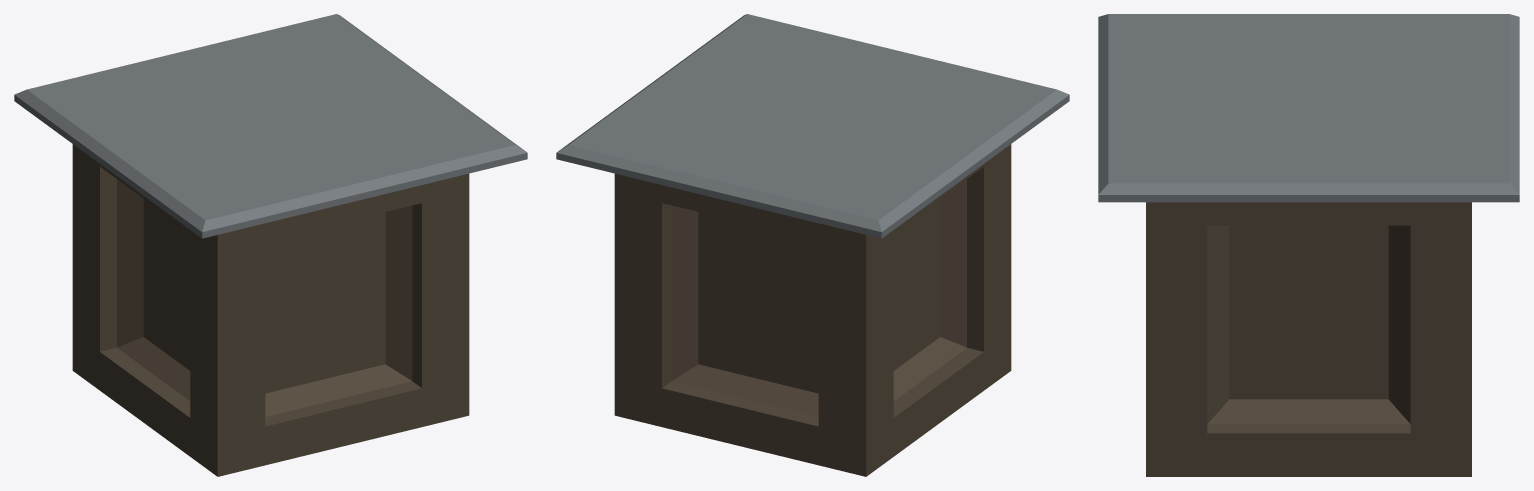
The model's file is WM_Table1.fbx.
3 views of the same model, side by side, from view 1: azimuth 30°, elevation 25°; view 2: azimuth 150°, elevation 25°; view 3: azimuth 270°, elevation 25° (orthographic). The views are drawn at different scales.
Visible parts, largest first — view 1: pCube25; view 2: pCube25; view 3: pCube25.
Boxes of the visible parts, left/top/right/bottom form: pCube25: left=14, top=14, right=527, bottom=476; pCube25: left=556, top=14, right=1069, bottom=476; pCube25: left=1098, top=14, right=1519, bottom=476.
Size of the model in its own units: 6.15 by 4.98 by 6.15.
